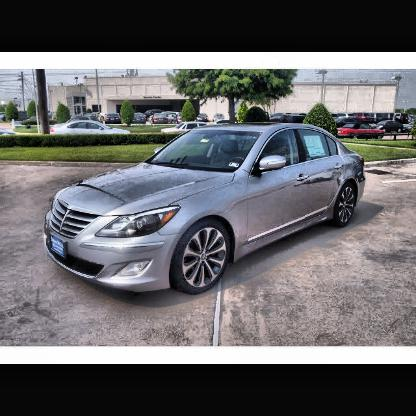Hyundai Genesis Sedan 2012: (45, 125, 365, 298)
